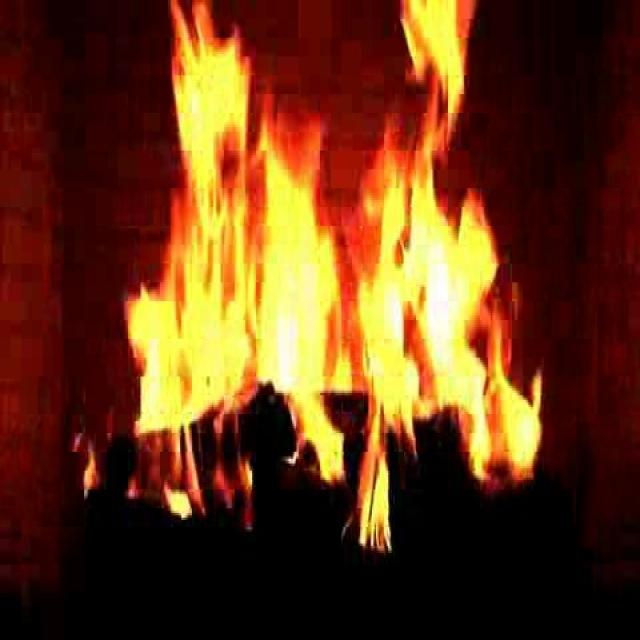fire: (123, 13, 526, 534)
